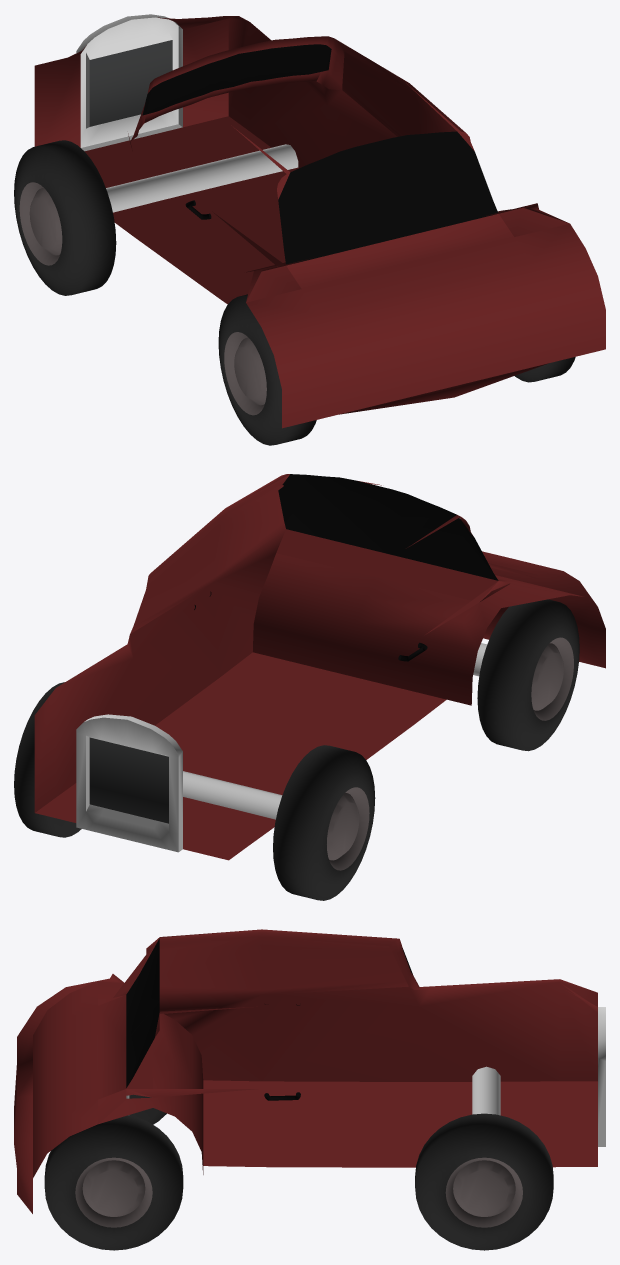
The model's file is Backfire.obj.
The picture shows the model from 3 angles, top to bottom: view 1: azimuth 30°, elevation 25°; view 2: azimuth 150°, elevation 25°; view 3: azimuth 270°, elevation 25°; orthographic projection. The views are drawn at different scales.
Visible parts, largest first — view 1: Carrosserie, roues_avant, roues_arrières, axe_avant; view 2: Carrosserie, roues_avant, roues_arrières, axe_avant; view 3: Carrosserie, roues_avant, roues_arrières, axe_avant.
Boxes of the visible parts, x1=… form: Carrosserie: x1=34, y1=14, x2=605, y2=428; roues_avant: x1=14, y1=140, x2=116, y2=295; roues_arrières: x1=218, y1=294, x2=575, y2=445; axe_avant: x1=106, y1=144, x2=298, y2=212; Carrosserie: x1=34, y1=474, x2=605, y2=860; roues_avant: x1=14, y1=682, x2=375, y2=900; roues_arrières: x1=477, y1=599, x2=579, y2=751; axe_avant: x1=183, y1=771, x2=282, y2=819; Carrosserie: x1=14, y1=929, x2=605, y2=1213; roues_avant: x1=415, y1=1113, x2=553, y2=1250; roues_arrières: x1=44, y1=1094, x2=183, y2=1250; axe_avant: x1=472, y1=1066, x2=500, y2=1115.
Size of the model in its own units: 836 by 624 by 1460.
